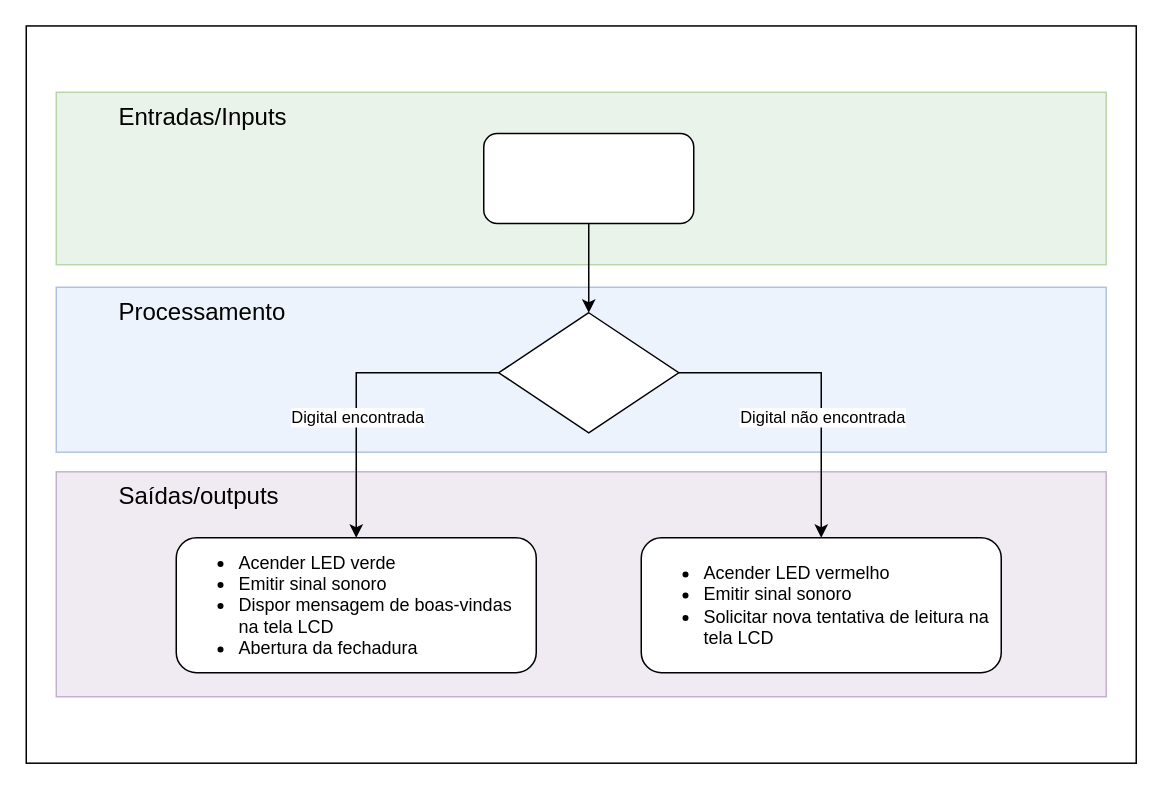
Image size: 1163x791. Some labels were removed from this diagram. Each missing label, with the centre of its shape:
Leitura das digitais do usuário: point (588, 178)
Validação: point (588, 372)
